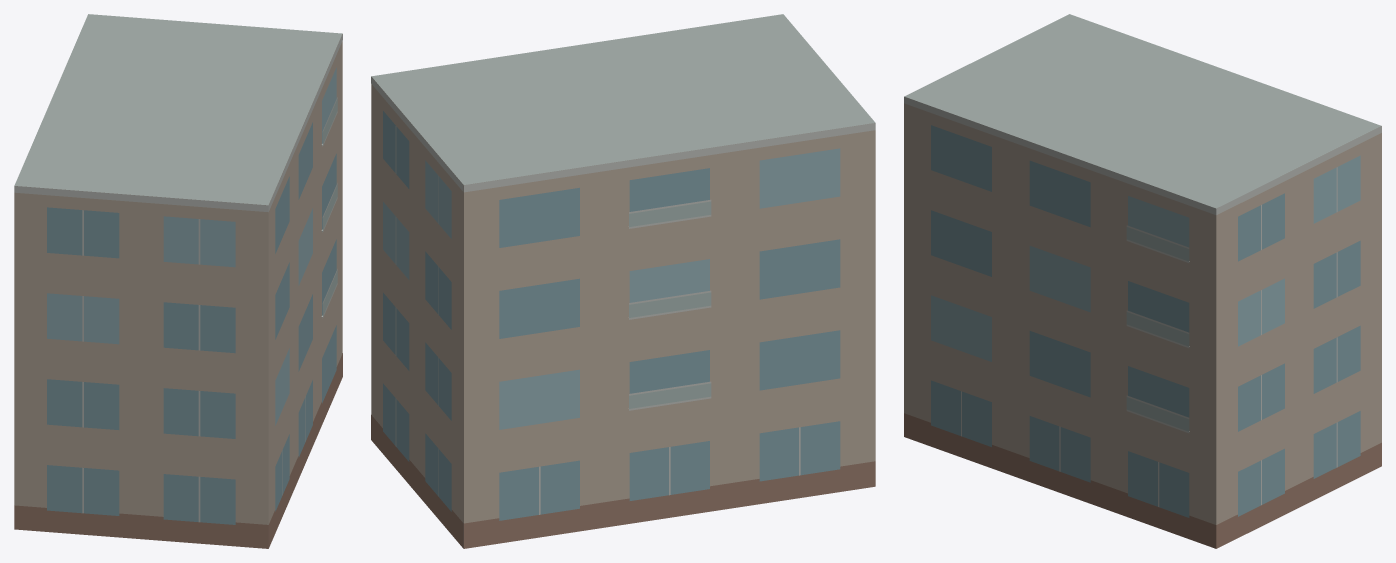
The model's file is residential-c8aa185d-84f1-4a14-81b5-970edc67fd30.glb.
3 views of the same model, side by side, from view 1: azimuth 30°, elevation 25°; view 2: azimuth 150°, elevation 25°; view 3: azimuth 270°, elevation 25° (orthographic). The views are drawn at different scales.
Visible parts, largest first — view 1: residential-c8aa185d-84f1-4a14-81b5-970edc67fd30.tmp; view 2: residential-c8aa185d-84f1-4a14-81b5-970edc67fd30.tmp; view 3: residential-c8aa185d-84f1-4a14-81b5-970edc67fd30.tmp.
Boxes of the visible parts, x1,y1,x2,y2 form: residential-c8aa185d-84f1-4a14-81b5-970edc67fd30.tmp: (14,14,342,548); residential-c8aa185d-84f1-4a14-81b5-970edc67fd30.tmp: (371,14,875,548); residential-c8aa185d-84f1-4a14-81b5-970edc67fd30.tmp: (904,14,1381,548).
Bounding box in the file's own units: 14.96 × 12.2 × 15.53.
